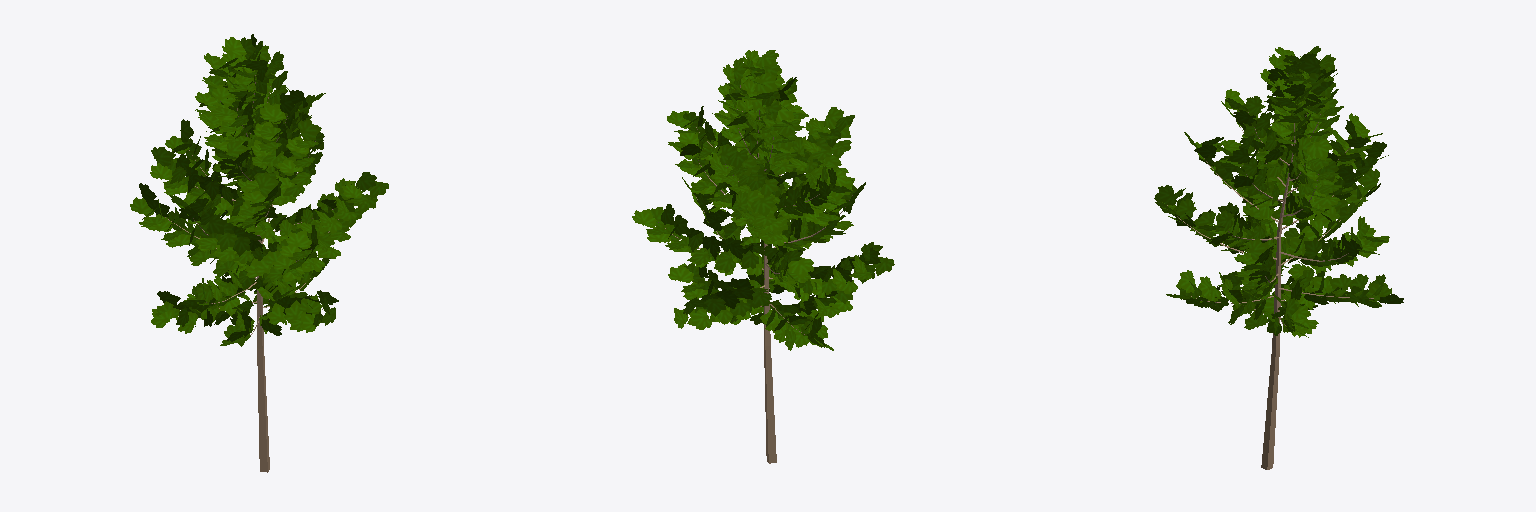
The picture shows the model from 3 angles: view 1: azimuth 30°, elevation 25°; view 2: azimuth 150°, elevation 25°; view 3: azimuth 270°, elevation 25°; orthographic projection.
Visible parts, largest first — view 1: leaves, tree; view 2: leaves, tree; view 3: leaves, tree.
Boxes of the visible parts, x1,y1,x2,y2 form: leaves: [130, 34, 388, 346]; tree: [165, 75, 338, 472]; leaves: [632, 50, 894, 350]; tree: [658, 85, 852, 463]; leaves: [1154, 46, 1403, 337]; tree: [1167, 73, 1373, 469].
Bounding box in the file's own units: 1.15 × 2.23 × 1.26.
2 materials, 2 textured.